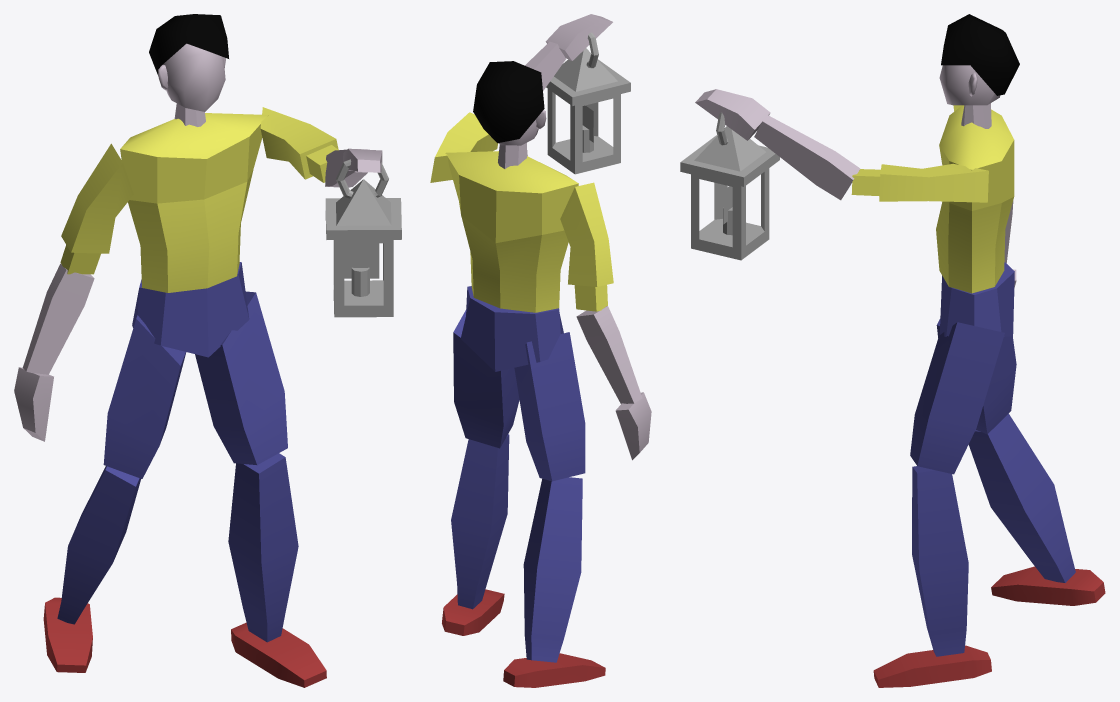
The model's file is heroIdleLamp - Bugado.fbx.
The picture shows the model from 3 angles, left to right: view 1: azimuth 30°, elevation 25°; view 2: azimuth 150°, elevation 25°; view 3: azimuth 270°, elevation 25°; orthographic projection. The views are drawn at different scales.
Parts seen in each view (by area): view 1: torso, E_perna02, E_perna01, D_perna01, lanterna1, D_perna02, pelvis, D_braço01, D_braço02, cebeca, E_braço01, E_pe (+7 smaller); view 2: torso, D_perna02, D_perna01, E_perna02, lanterna1, E_perna01, pelvis, D_braço01, cabelo1, D_braço02, D_pe, E_braço01 (+5 smaller); view 3: torso, D_perna02, E_perna01, E_perna02, lanterna1, E_braço01, cabelo1, E_braço02, pelvis, E_pe, D_pe, cebeca (+2 smaller).
Part boxes in pixels (box(x1,y1,x2,y2)): torso: box(120, 113, 268, 292); E_perna02: box(228, 453, 298, 642); E_perna01: box(195, 291, 287, 464); D_perna01: box(103, 315, 186, 478); lanterna1: box(325, 179, 401, 317); D_perna02: box(57, 466, 140, 624); pelvis: box(132, 262, 249, 357); D_braço01: box(60, 143, 133, 274); D_braço02: box(22, 263, 94, 374); cebeca: box(158, 43, 225, 126); E_braço01: box(260, 107, 338, 182); E_pe: box(231, 622, 326, 687); torso: box(445, 151, 578, 312); D_perna02: box(523, 477, 582, 662); D_perna01: box(514, 332, 585, 481); E_perna02: box(451, 434, 509, 609); lanterna1: box(546, 48, 630, 174); E_perna01: box(453, 309, 519, 448); pelvis: box(461, 286, 563, 371); D_braço01: box(560, 182, 613, 311); cabelo1: box(473, 61, 544, 143); D_braço02: box(576, 306, 642, 403); D_pe: box(503, 653, 605, 687); E_braço01: box(430, 112, 498, 182); torso: box(936, 105, 1014, 293); D_perna02: box(968, 413, 1075, 582); E_perna01: box(910, 322, 1004, 474); E_perna02: box(912, 466, 968, 656); lanterna1: box(680, 126, 779, 260); E_braço01: box(851, 163, 988, 202); cabelo1: box(941, 14, 1019, 95); E_braço02: box(754, 114, 860, 200); pelvis: box(939, 262, 1014, 336); E_pe: box(873, 645, 991, 687); D_pe: box(991, 566, 1105, 605); cebeca: box(939, 65, 1000, 128).
Bounding box in the file's own units: 20.18 × 48.46 × 29.58.
